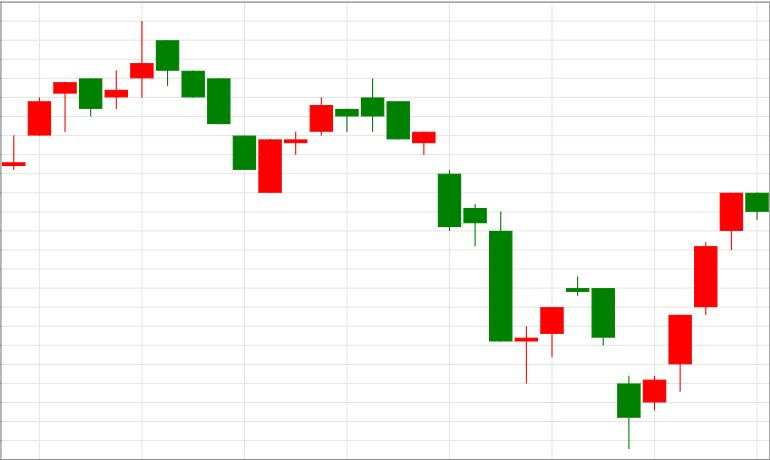three_white_soldiers_rise: (566, 193, 743, 449)
